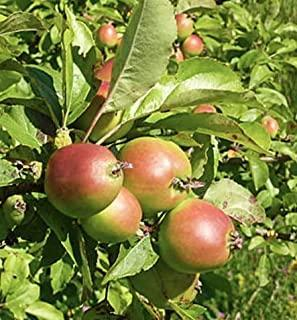apple: (156, 198, 236, 276), (119, 136, 190, 219), (46, 142, 124, 217), (83, 186, 143, 244), (173, 13, 193, 40), (182, 34, 203, 58), (97, 23, 117, 46)
